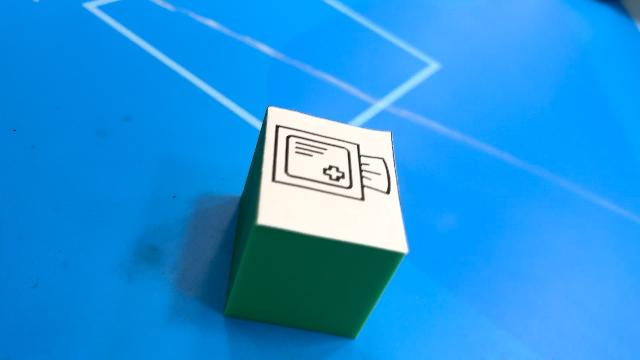napkin: (222, 104, 410, 340)
